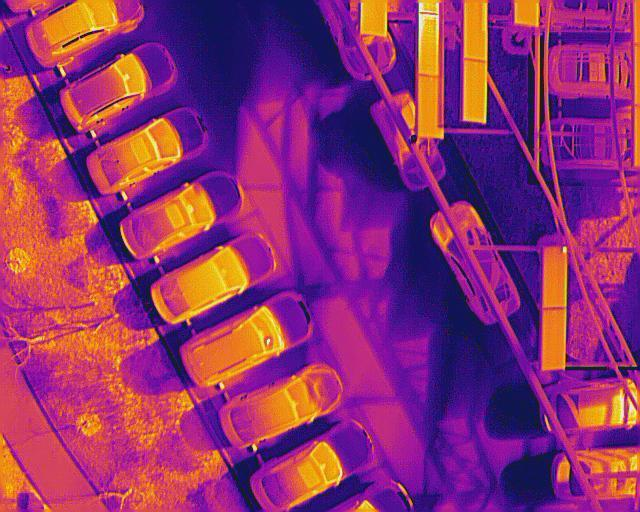Cell: (543, 247, 567, 308)
No-Anomaly: (464, 0, 488, 62), (464, 60, 488, 121), (542, 309, 565, 370), (417, 77, 438, 140)
Unclassified: (418, 13, 439, 78)
